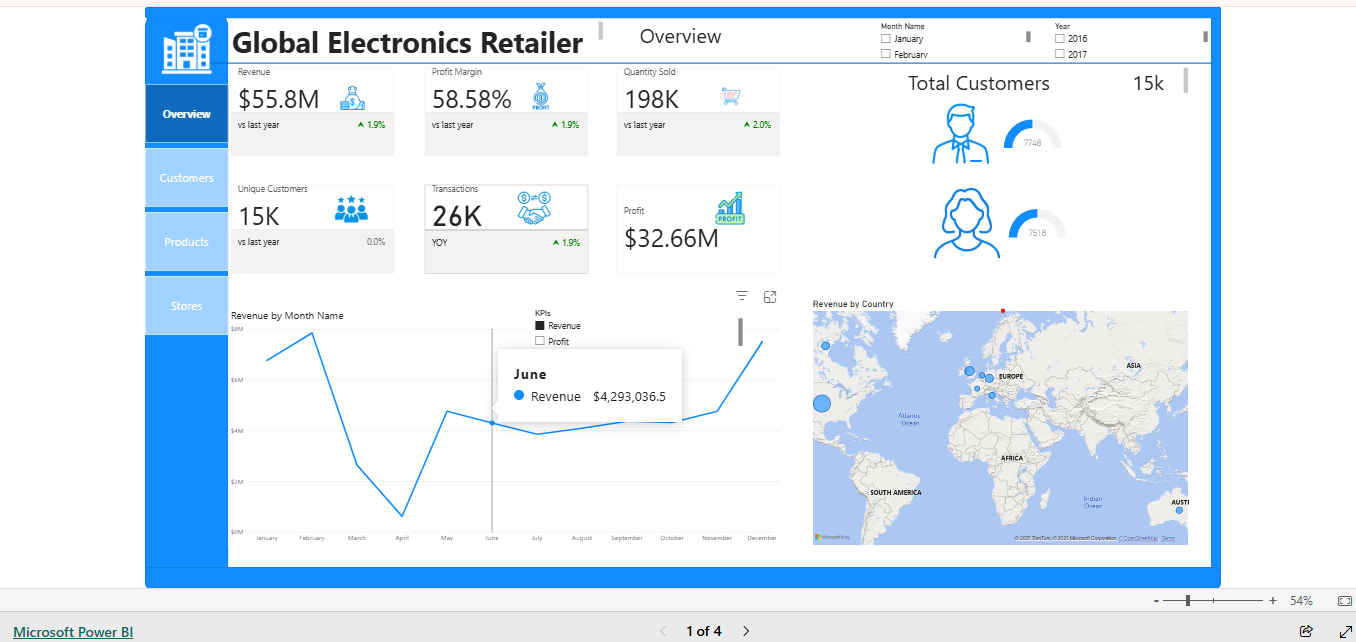

This screenshot's page, from the dashboard's own definition file:
{"tool":"powerbi","page":{"name":"Overview","canvas":[2000,1080],"ordinal":5},"visuals":[{"type":"shape","box":[0,0,154.9,1081.4],"z":0},{"type":"shape","box":[1980.9,0,19.1,1068.1],"z":1000},{"type":"cardVisual","fields":{"Data":["_Measures.Revenue"]},"box":[154.9,107.6,315,175.9],"z":2000},{"type":"cardVisual","fields":{"Data":["_Measures.Profit Margin"]},"box":[514.4,107.6,315,175.9],"z":3000},{"type":"cardVisual","fields":{"Data":["_Measures.Profit"]},"box":[871.4,325.5,315,175.9],"z":4000},{"type":"cardVisual","fields":{"Data":["_Measures.Quantity Sold"]},"box":[871.4,107.6,315,175.9],"z":5000},{"type":"cardVisual","fields":{"Data":["_Measures.Unique Customers"]},"box":[154.9,325.5,315,175.9],"z":6000},{"type":"cardVisual","fields":{"Data":["_Measures.Transactions"]},"box":[514.4,325.5,315,175.9],"z":7000},{"type":"shape","box":[0,1040.4,2000,40.4],"z":8000},{"type":"shape","box":[0,0,2000,21.3],"z":9000},{"type":"lineChart","fields":{"Y":["_Measures.Revenue"],"Category":["Calendar.Month Name"]},"box":[154.9,559.1,1031.5,446.2],"z":10000},{"type":"slicer","fields":{"Values":["KPIs.KPIs"]},"box":[711.3,556.4,404.2,105],"z":11000},{"type":"textbox","box":[155.5,21.6,699.8,77.8],"z":13000},{"type":"map","fields":{"Category":["Customers.Country"],"Size":["_Measures.Revenue"]},"box":[1235.5,540,708.5,464.4],"z":14000},{"type":"shape","box":[99.7,99.7,1881.9,7.9],"z":15000},{"type":"slicer","fields":{"Values":["Calendar.Year"]},"box":[1678.3,21.6,302.4,77.8],"z":16000},{"type":"slicer","fields":{"Values":["Calendar.Month Name"]},"box":[1354.3,21.6,295.9,77.8],"z":17000},{"type":"image","box":[341.2,141.7,86.6,55.1],"z":18000},{"type":"image","box":[695.5,136.5,81.4,60.4],"z":19000},{"type":"image","box":[1042,136.5,94.5,60.4],"z":20000},{"type":"image","box":[341.2,338.6,84,73.5],"z":21000},{"type":"image","box":[671.9,338.6,105,70.9],"z":22000},{"type":"image","box":[1039.4,338.6,97.1,70.9],"z":23000},{"type":"image","box":[0,21,154.9,115.5],"z":24000},{"type":"gauge","fields":{"Y":["_Measures.Male Count"]},"box":[1591.9,166.3,116.6,140.4],"z":24001},{"type":"image","box":[1445,166.3,144.7,140.4],"z":24002},{"type":"gauge","fields":{"Y":["_Measures.Female Count"]},"box":[1600.6,326.2,116.6,153.4],"z":24003},{"type":"image","box":[1455.8,326.2,144.7,153.4],"z":24004},{"type":"textbox","box":[1412.6,108,531.4,58.3],"z":24005},{"type":"pageNavigator","box":[0,142.6,155.5,466.6],"z":24006},{"type":"textbox","box":[913.7,21.6,371.5,77.8],"z":24007}]}

Visuals, with their boxes on the page's 2000x1080 design canvas (x1, y1, x2, y2). These are canvas units, not pixel positions in the 1356x642 screenshot, which may show the page scaled, cropped or inside an application window:
shape: rect(0, 0, 155, 1081)
shape: rect(1981, 0, 2000, 1068)
cardVisual - _Measures.Revenue: rect(155, 108, 470, 284)
cardVisual - _Measures.Profit Margin: rect(514, 108, 829, 284)
cardVisual - _Measures.Profit: rect(871, 326, 1186, 501)
cardVisual - _Measures.Quantity Sold: rect(871, 108, 1186, 284)
cardVisual - _Measures.Unique Customers: rect(155, 326, 470, 501)
cardVisual - _Measures.Transactions: rect(514, 326, 829, 501)
shape: rect(0, 1040, 2000, 1081)
shape: rect(0, 0, 2000, 21)
lineChart - _Measures.Revenue x Calendar.Month Name: rect(155, 559, 1186, 1005)
slicer - KPIs.KPIs: rect(711, 556, 1116, 661)
textbox: rect(156, 22, 855, 99)
map - Customers.Country x _Measures.Revenue: rect(1236, 540, 1944, 1004)
shape: rect(100, 100, 1982, 108)
slicer - Calendar.Year: rect(1678, 22, 1981, 99)
slicer - Calendar.Month Name: rect(1354, 22, 1650, 99)
image: rect(341, 142, 428, 197)
image: rect(696, 136, 777, 197)
image: rect(1042, 136, 1136, 197)
image: rect(341, 339, 425, 412)
image: rect(672, 339, 777, 410)
image: rect(1039, 339, 1136, 410)
image: rect(0, 21, 155, 136)
gauge - _Measures.Male Count: rect(1592, 166, 1708, 307)
image: rect(1445, 166, 1590, 307)
gauge - _Measures.Female Count: rect(1601, 326, 1717, 480)
image: rect(1456, 326, 1600, 480)
textbox: rect(1413, 108, 1944, 166)
pageNavigator: rect(0, 143, 156, 609)
textbox: rect(914, 22, 1285, 99)
